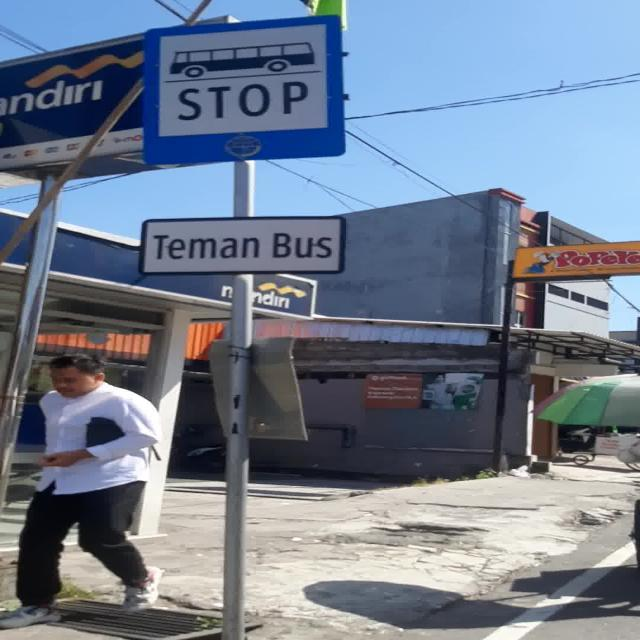Pemberhentian Bus: (142, 14, 346, 159)
